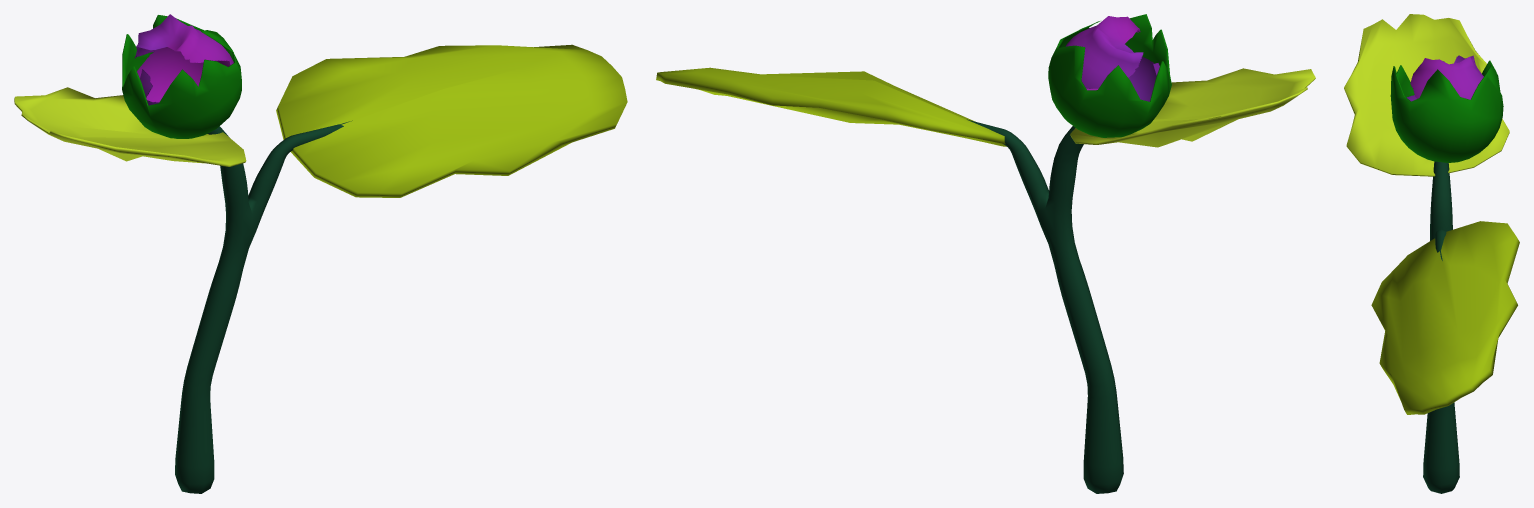
File: เชอรี่.fbx
The picture shows the model from 3 angles, left to right: view 1: azimuth 30°, elevation 25°; view 2: azimuth 150°, elevation 25°; view 3: azimuth 270°, elevation 25°; orthographic projection. The views are drawn at different scales.
Visible parts, largest first — view 1: Circle.001; view 2: Circle.001; view 3: Circle.001.
Boxes of the visible parts, <box> form: Circle.001: <box>14,14,627,493</box>; Circle.001: <box>656,14,1315,493</box>; Circle.001: <box>1344,14,1519,493</box>.
Size of the model in its own units: 139 by 102 by 37.62.
